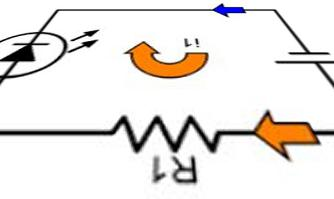resistor: (104, 99, 232, 157)
